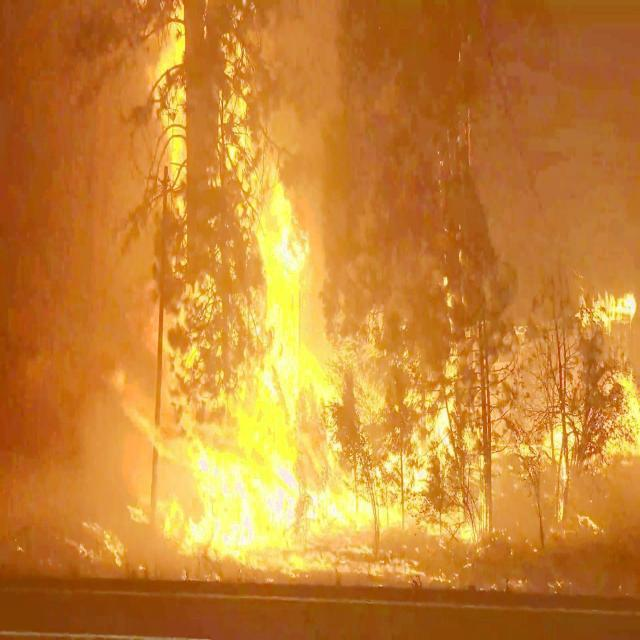Fire: (185, 113, 332, 549), (318, 341, 476, 563), (591, 277, 640, 373)
